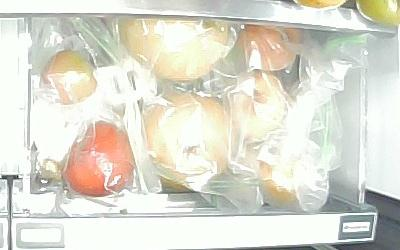broccoli: (38, 49, 97, 105)
peach_vinyl: (222, 70, 290, 141), (237, 24, 302, 72)
pear_vinyl: (140, 91, 240, 189), (116, 15, 233, 83)
tomato_vinyl: (63, 118, 134, 197)
